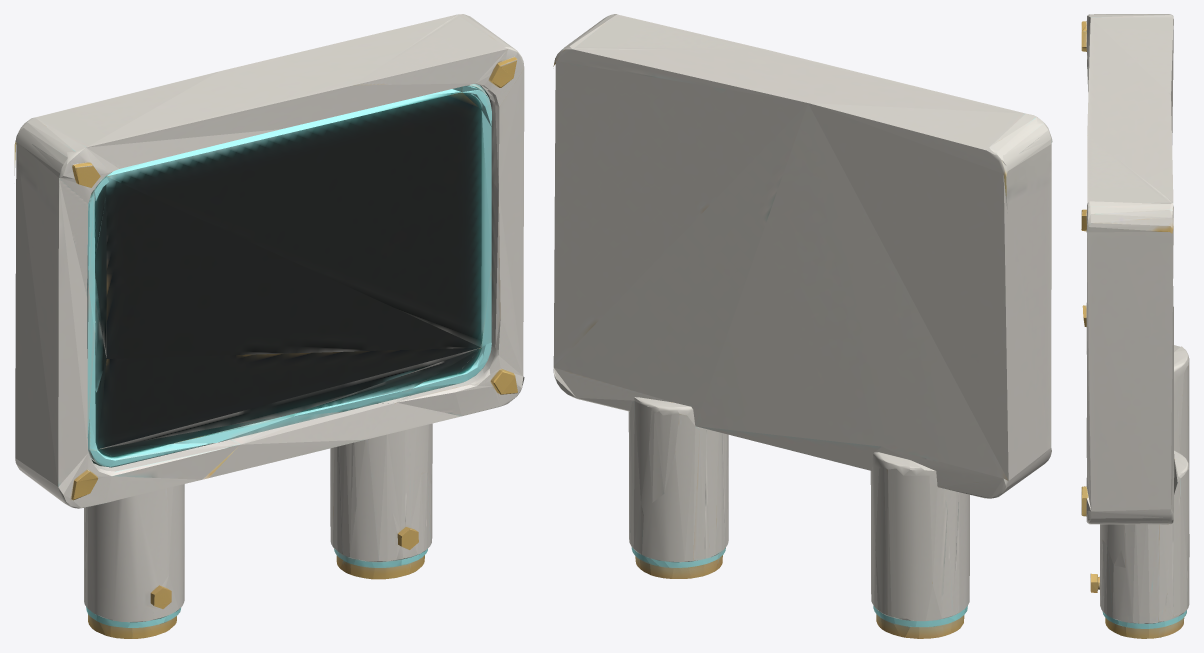
Rendered from holo-board.glb.
3 views of the same model, side by side, from view 1: azimuth 30°, elevation 25°; view 2: azimuth 150°, elevation 25°; view 3: azimuth 270°, elevation 25° (orthographic). The views are drawn at different scales.
Bounding box in the file's own units: 1.8 × 1.9 × 0.4026.
Materials: 1 (1 with a texture image).
